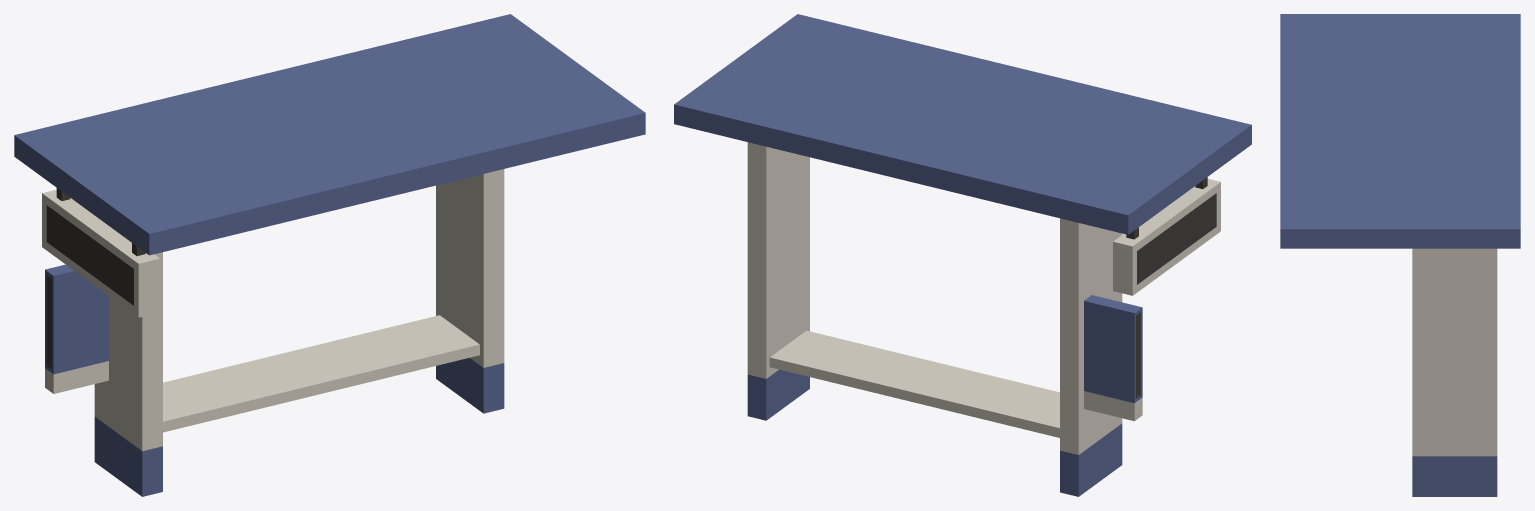
The model's file is Tram_Stop.fbx.
3 views of the same model, side by side, from view 1: azimuth 30°, elevation 25°; view 2: azimuth 150°, elevation 25°; view 3: azimuth 270°, elevation 25° (orthographic). The views are drawn at different scales.
Visible parts, largest first — view 1: Tram_Stop; view 2: Tram_Stop; view 3: Tram_Stop.
Boxes of the visible parts, x1,y1,x2,y2 form: Tram_Stop: (14,14,645,496); Tram_Stop: (674,14,1251,496); Tram_Stop: (1280,14,1520,496).
Size of the model in its own units: 458 by 295 by 216.
Materials: 1 (1 with a texture image).
